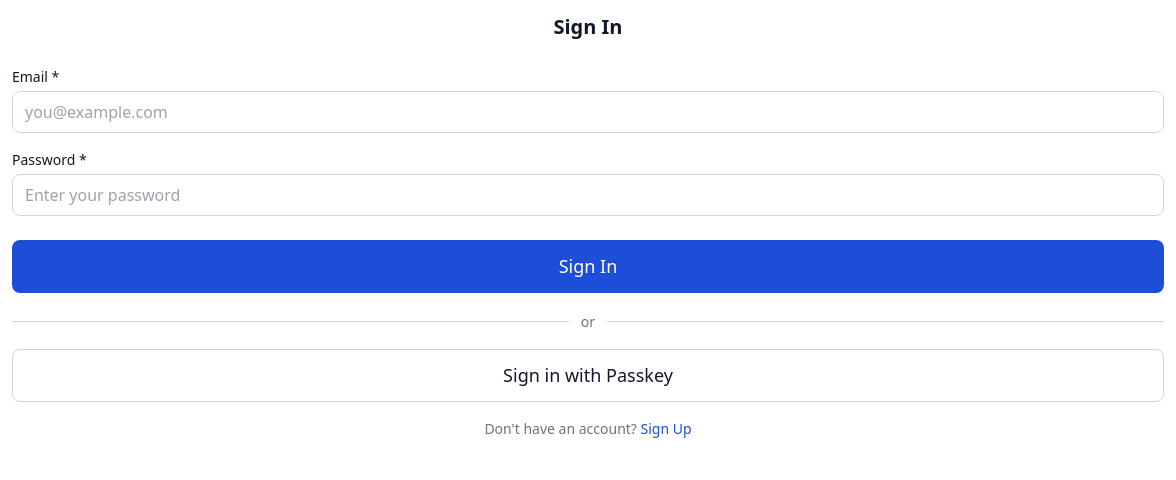
Test case: sign-in page › shows password validation error for short password
Type "user@example.com" into the field with id "sign-in-email" at (588, 112), box 12,91 -> 1164,133
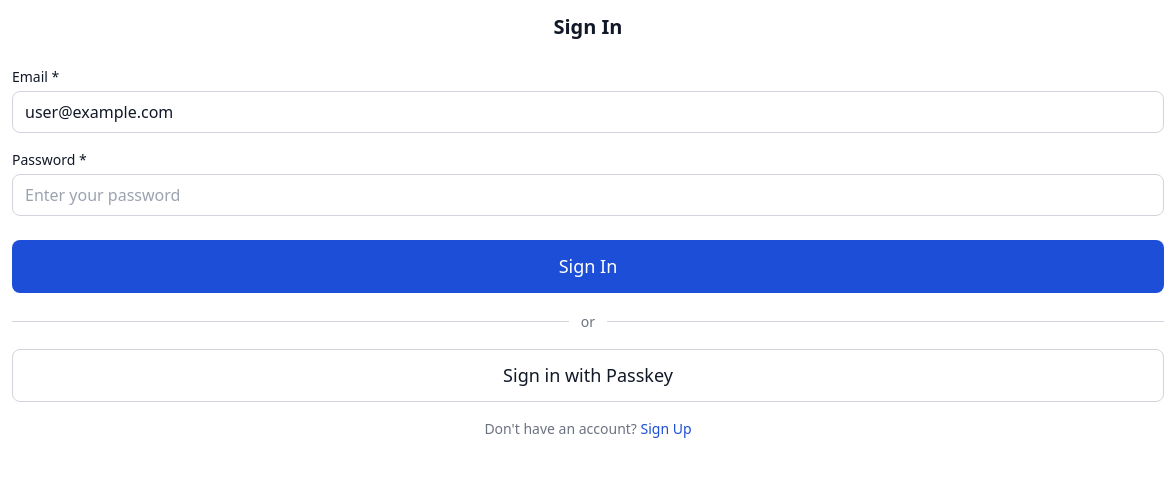
Type "short" into the password field with id "sign-in-password" at (588, 195), box 12,174 -> 1164,216
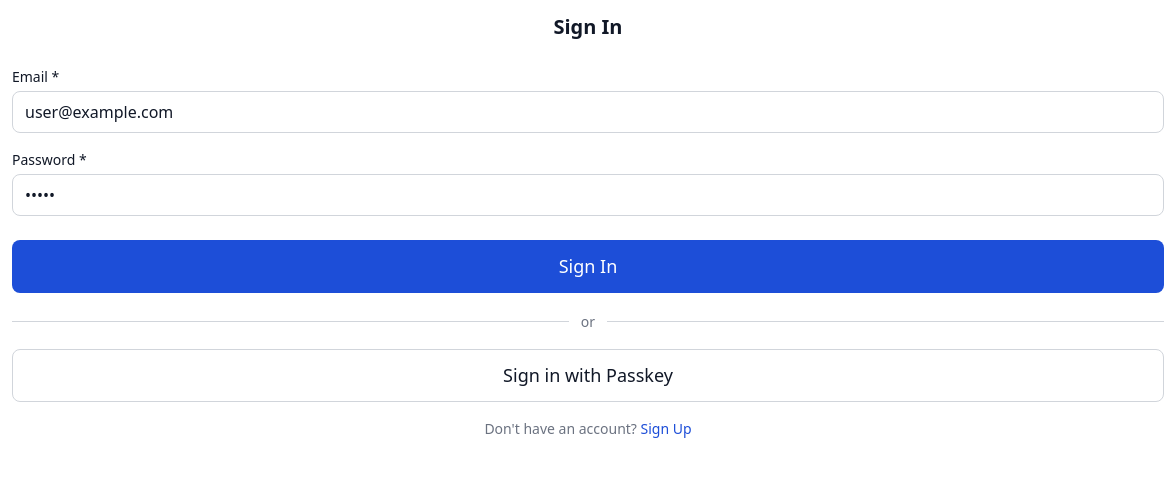
Submit the form, box 12,66 -> 1164,293
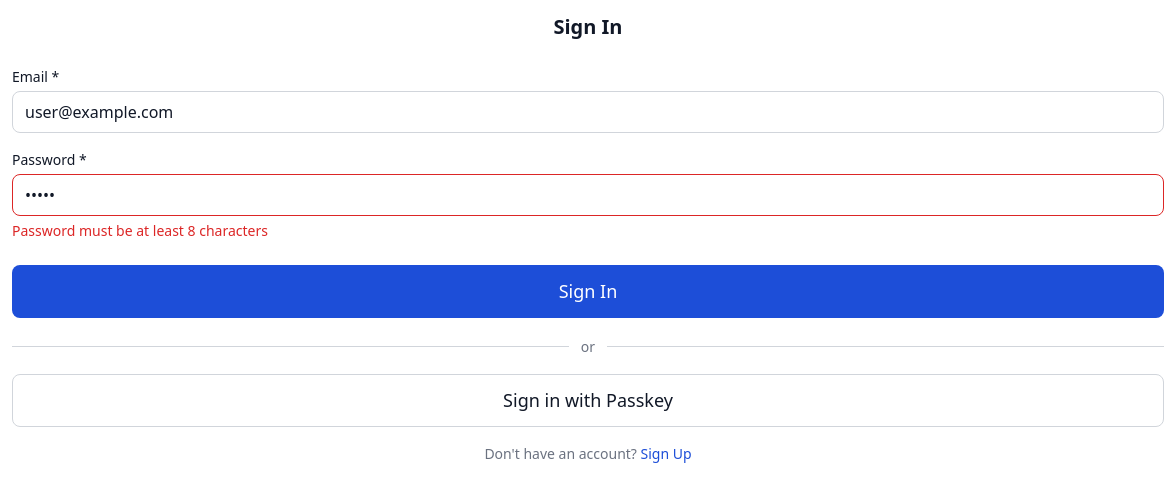
Check: the text "Password must be at least 8 characters" is shown, box 12,221 -> 268,240
